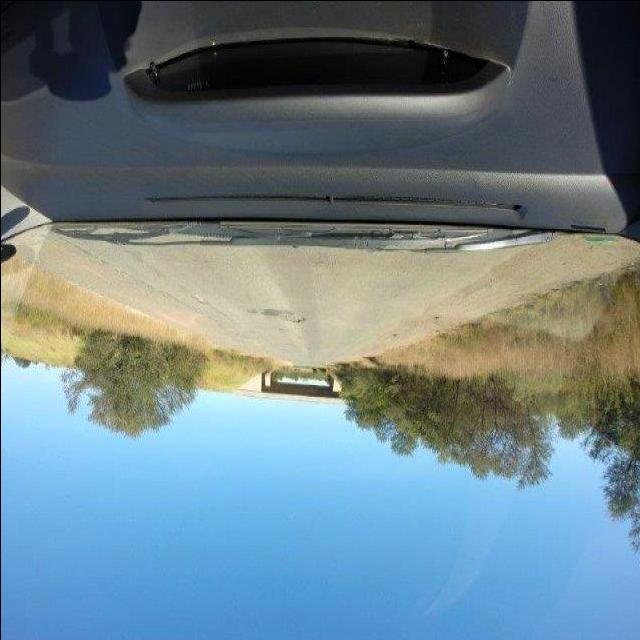lubang: (278, 308, 305, 328)
